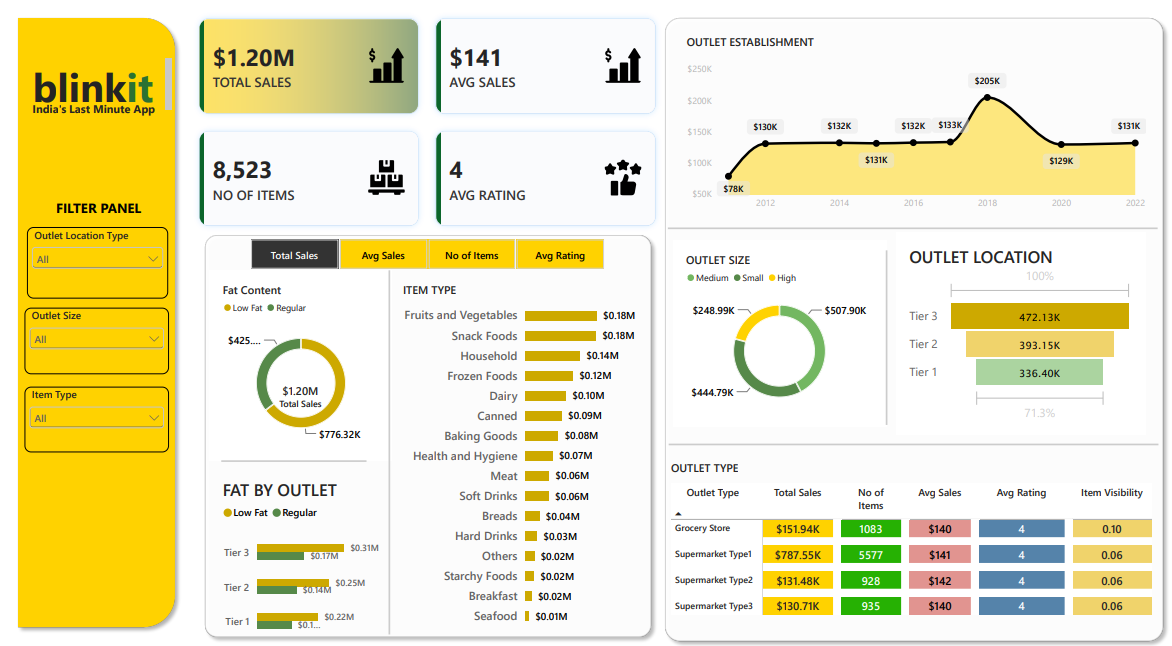

The page's visual inventory and layout, read from the dashboard file:
{"tool":"powerbi","page":{"name":"Page 1","canvas":[1400,800],"ordinal":0},"visuals":[{"type":"shape","box":[4,18,206,750],"z":0},{"type":"textbox","box":[30,75,168.3,63.3],"z":1000},{"type":"textbox","box":[19.1,126.4,169.1,51.8],"z":2000},{"type":"cardVisual","fields":{"Data":["blinkit_data.Total Sales","blinkit_data.Average of Sales","blinkit_data.No of Items","blinkit_data.Avearge of Rating"]},"box":[220,17.1,570,270],"z":3000},{"type":"shape","box":[228.6,278.6,554.3,500],"z":4000},{"type":"donutChart","title":"Fat Content","fields":{"Category":["blinkit_data.item_fat_content"],"Y":["blinkit_data.Total Sales"]},"box":[243,330.4,220.3,229.1],"z":5000},{"type":"slicer","fields":{"Values":["Metrics.Metrics"]},"box":[272.2,291.1,464.6,39.2],"z":6000},{"type":"cardVisual","fields":{"Data":["blinkit_data.Total Sales"]},"box":[274.4,455,156.7,55],"z":7000},{"type":"clusteredBarChart","title":"FAT BY OUTLET","fields":{"Category":["blinkit_data.outlet_location_type"],"Series":["blinkit_data.item_fat_content"],"Y":["blinkit_data.Total Sales"]},"box":[243,565.8,220.3,230.4],"z":8000},{"type":"shape","box":[257,545.6,174.7,27.8],"z":9000},{"type":"shape","box":[451.9,330.4,15.2,438],"z":10000},{"type":"barChart","title":"ITEM TYPE","fields":{"Category":["blinkit_data.item_type"],"Y":["blinkit_data.Total Sales"]},"box":[460,330,311.7,448.3],"z":11000},{"type":"shape","box":[783,18,616.9,766.2],"z":12000},{"type":"lineChart","title":"OUTLET ESTABLISHMENT","fields":{"Category":["blinkit_data.outlet_establishment_year"],"Y":["blinkit_data.Total Sales"]},"box":[801.5,32.3,584.6,246.2],"z":13000},{"type":"shape","box":[794.8,264.9,590.1,28.6],"z":14000},{"type":"donutChart","title":"OUTLET SIZE","fields":{"Category":["blinkit_data.outlet_size"],"Y":["blinkit_data.Total Sales"]},"box":[800.9,293.5,257.4,224.3],"z":15000},{"type":"shape","box":[1044.7,305.6,27.1,210.8],"z":16000},{"type":"funnel","title":"OUTLET LOCATION","fields":{"Category":["blinkit_data.outlet_location_type"],"Y":["Sum(blinkit_data.sales)"]},"box":[1070.3,284.5,301.1,243.9],"z":17000},{"type":"shape","box":[796.3,525.4,590.1,28.6],"z":18000},{"type":"pivotTable","title":"OUTLET TYPE","fields":{"Rows":["blinkit_data.outlet_type"],"Values":["blinkit_data.Total Sales","blinkit_data.No of Items","blinkit_data.Avg Sales","blinkit_data.Avg Rating","Avg(blinkit_data.item_visibility)"]},"box":[782.8,544.9,617.2,236.3],"z":19000},{"type":"slicer","fields":{"Values":["blinkit_data.outlet_location_type"]},"box":[22.6,278.5,170.1,85.8],"z":20000},{"type":"slicer","fields":{"Values":["blinkit_data.outlet_size"]},"box":[19.6,374.8,174.6,79.8],"z":21000},{"type":"slicer","fields":{"Values":["blinkit_data.item_type"]},"box":[19.6,469.7,174.6,79.8],"z":22000},{"type":"textbox","box":[30.5,244.4,157.1,33.5],"z":23000}]}

Visuals, with their boxes on the page's 1400x800 design canvas (x1, y1, x2, y2). These are canvas units, not pixel positions in the 1172x646 screenshot, which may show the page scaled, cropped or inside an application window:
shape: [4,18,210,768]
textbox: [30,75,198,138]
textbox: [19,126,188,178]
cardVisual - blinkit_data.Total Sales x blinkit_data.Average of Sales: [220,17,790,287]
shape: [229,279,783,779]
"Fat Content" donutChart: [243,330,463,560]
slicer - Metrics.Metrics: [272,291,737,330]
cardVisual - blinkit_data.Total Sales: [274,455,431,510]
"FAT BY OUTLET" clusteredBarChart: [243,566,463,796]
shape: [257,546,432,573]
shape: [452,330,467,768]
"ITEM TYPE" barChart: [460,330,772,778]
shape: [783,18,1400,784]
"OUTLET ESTABLISHMENT" lineChart: [802,32,1386,278]
shape: [795,265,1385,294]
"OUTLET SIZE" donutChart: [801,294,1058,518]
shape: [1045,306,1072,516]
"OUTLET LOCATION" funnel: [1070,284,1371,528]
shape: [796,525,1386,554]
"OUTLET TYPE" pivotTable: [783,545,1400,781]
slicer - blinkit_data.outlet_location_type: [23,278,193,364]
slicer - blinkit_data.outlet_size: [20,375,194,455]
slicer - blinkit_data.item_type: [20,470,194,550]
textbox: [30,244,188,278]
